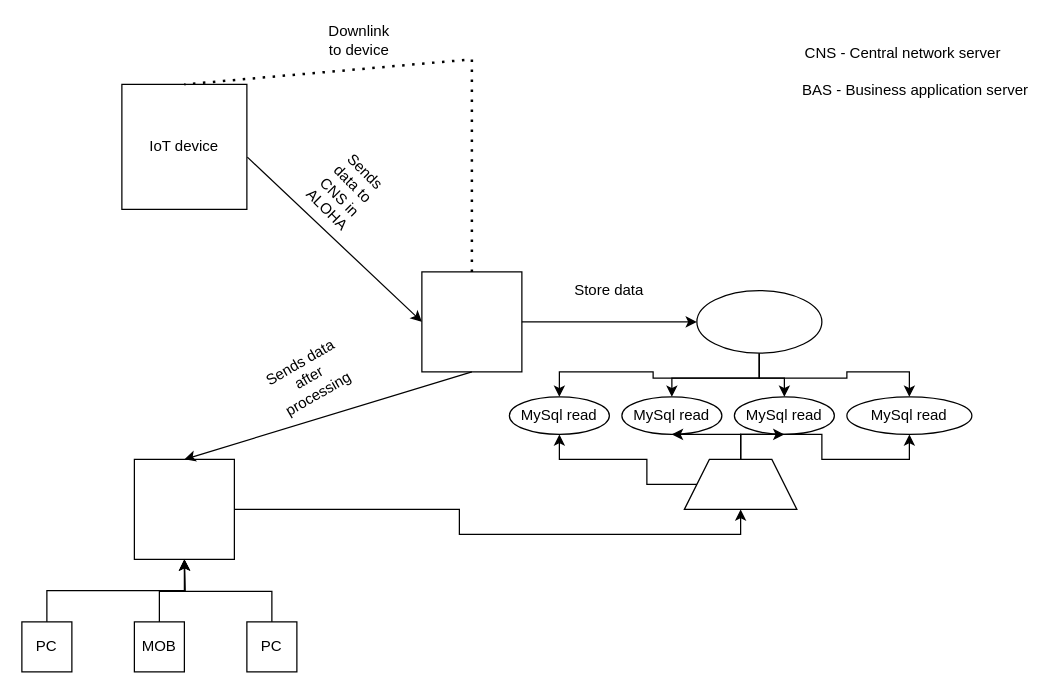
Image size: 1056x694. Some labels were removed from this diagram. The shapes that lost their labels are listed below. From the top down, each one's centre as x and y in pixels, then its label:
[471,321]: CNS
[759,321]: MySql write
[740,483]: LB DB
[183,508]: BAS
